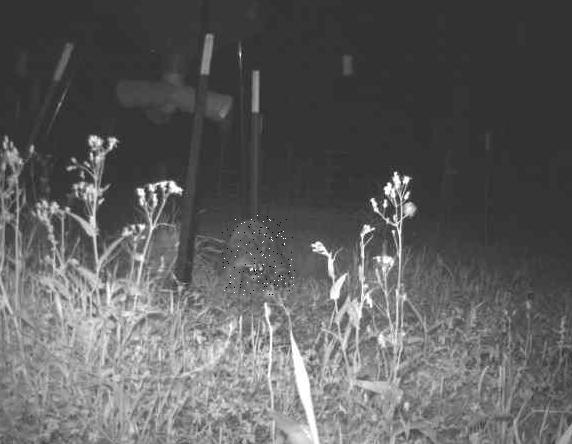Raccoon: (222, 216, 295, 296)
